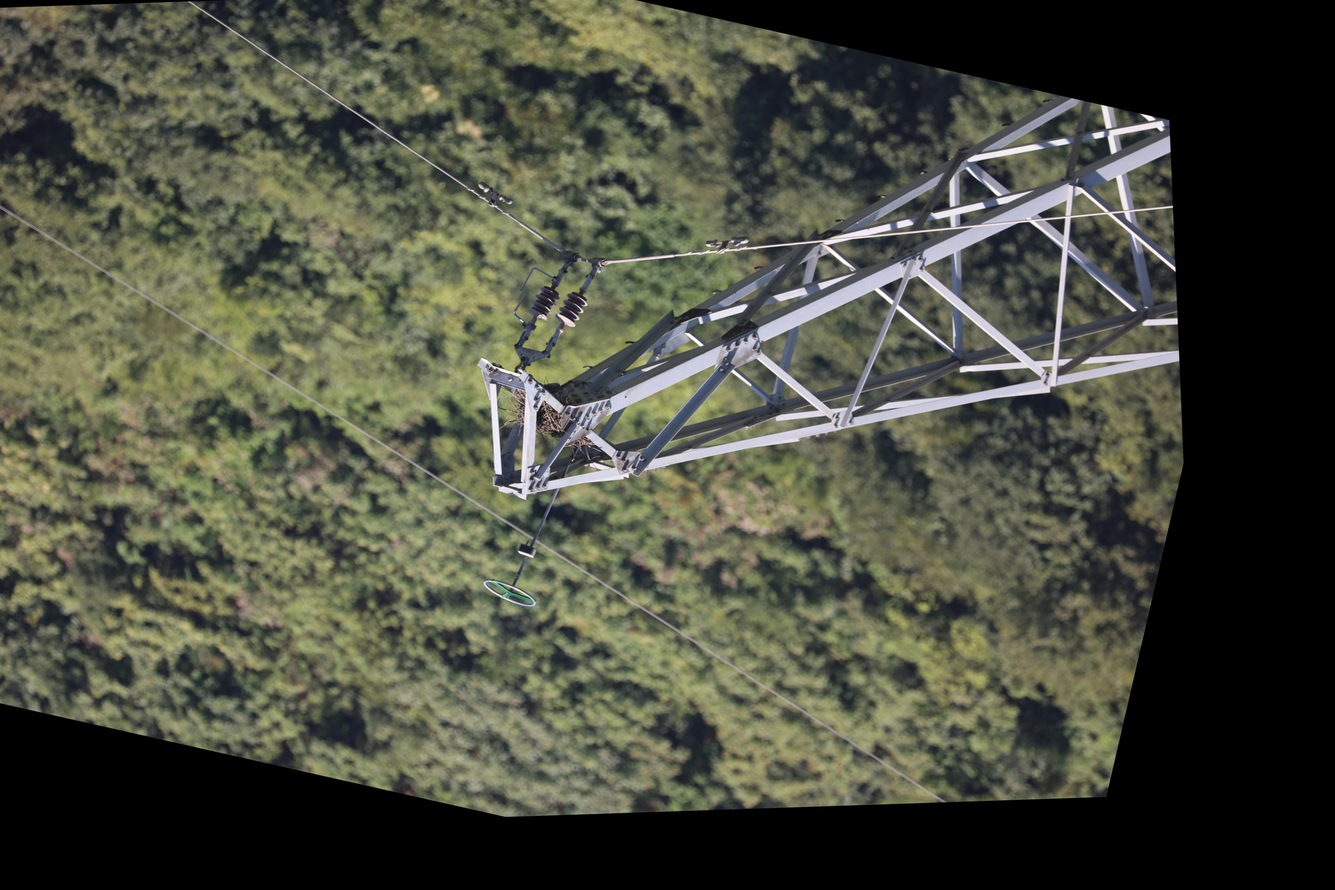damper: (701, 225, 753, 263), (470, 177, 519, 214)
